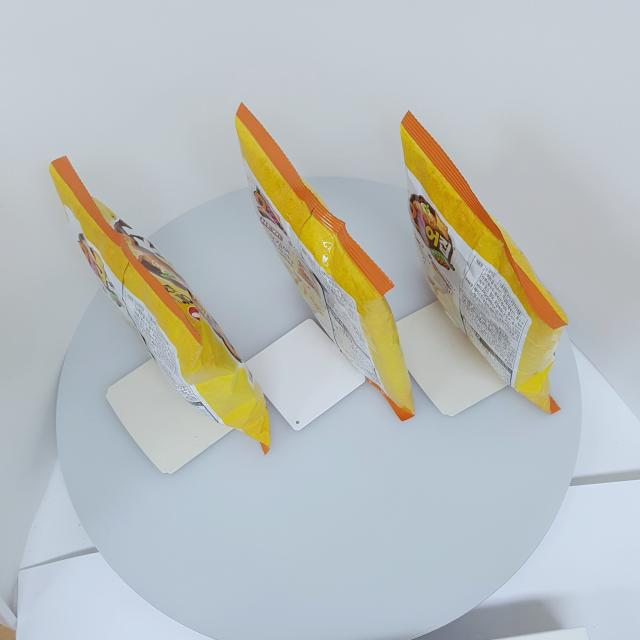-83G: (50, 156, 272, 456), (236, 102, 416, 422), (401, 111, 569, 415)
